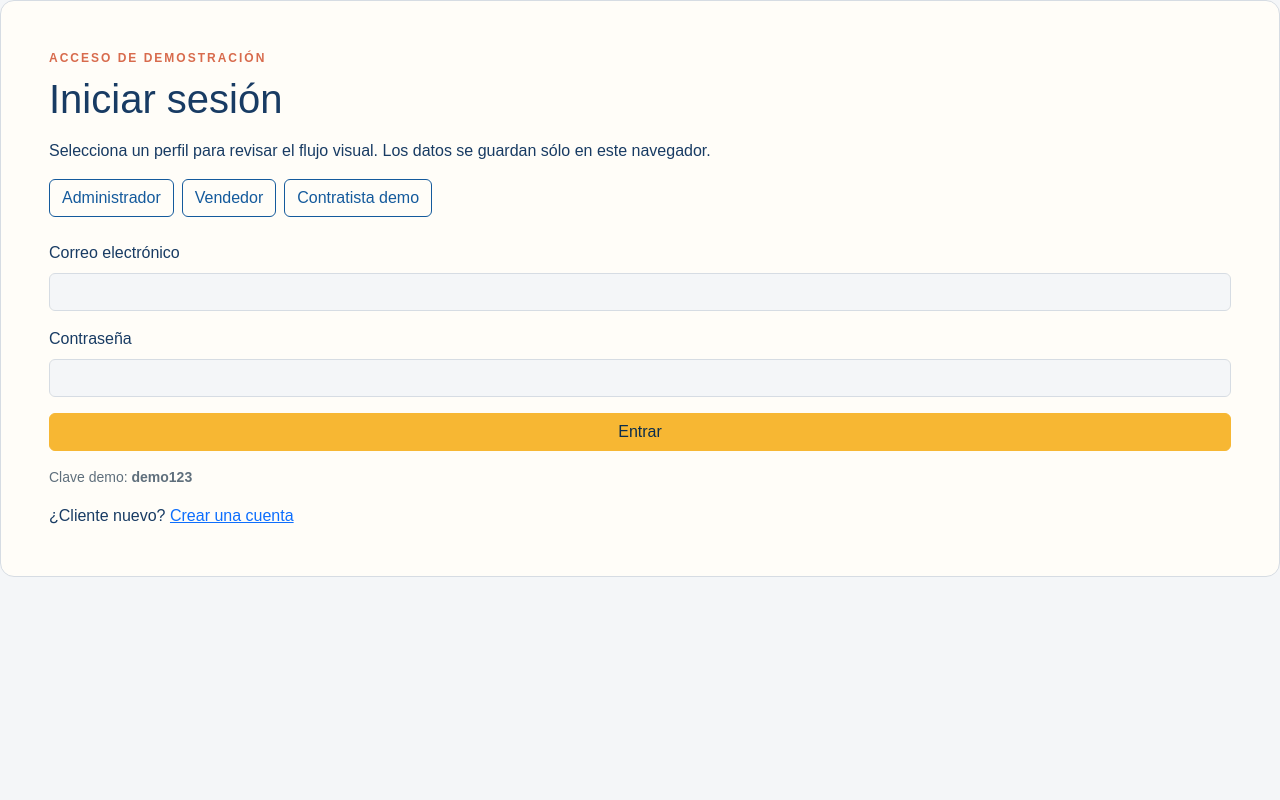
IngresoContainer › un botón demo completa correo y clave
Click the button "Administrador": {"x": 111, "y": 198} [49,179,174,217]
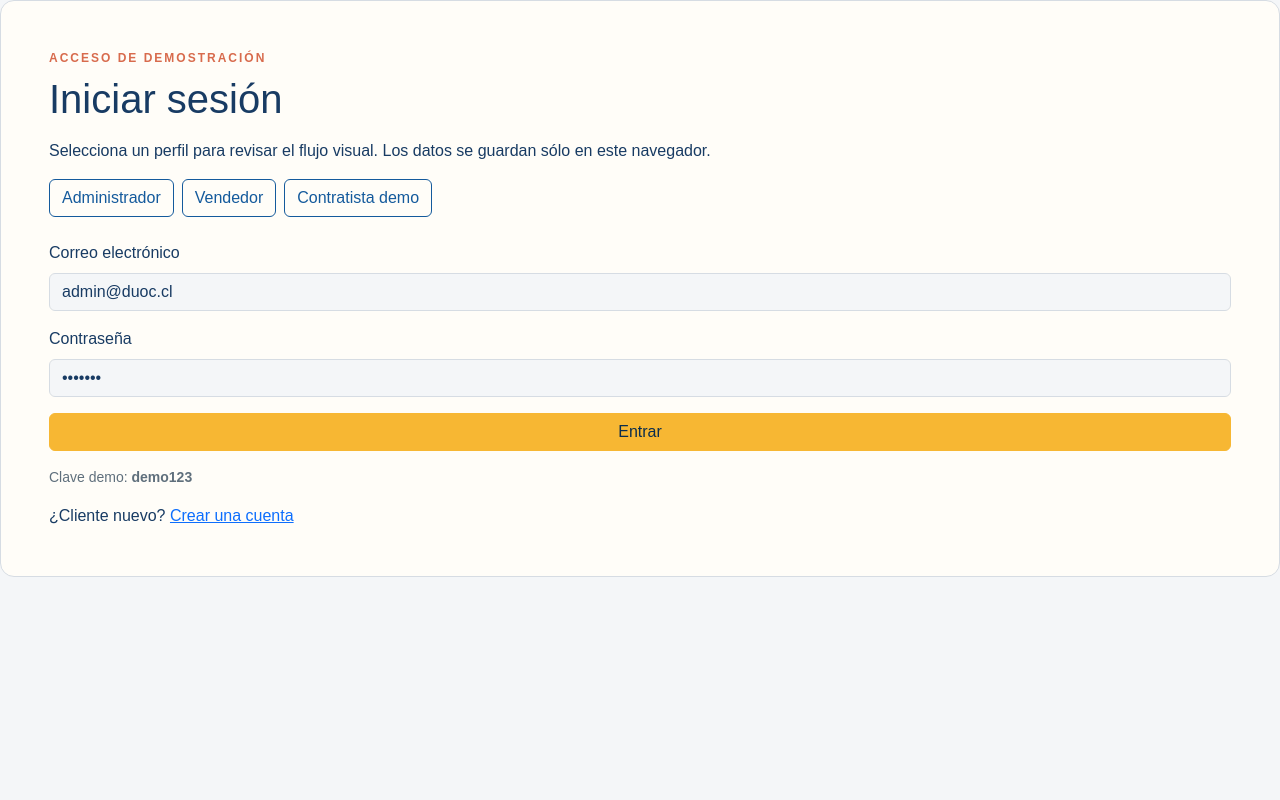
Check: the field labelled "Correo electrónico" holds "admin@duoc.cl", box [49,273,1231,311]
Check: the password field labelled "Contraseña" holds "demo123", box [49,359,1231,397]
